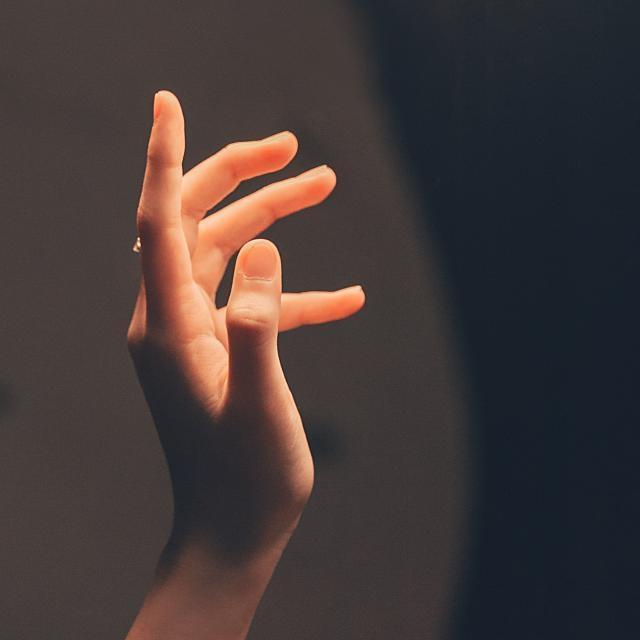no_apron: (112, 61, 394, 538)
